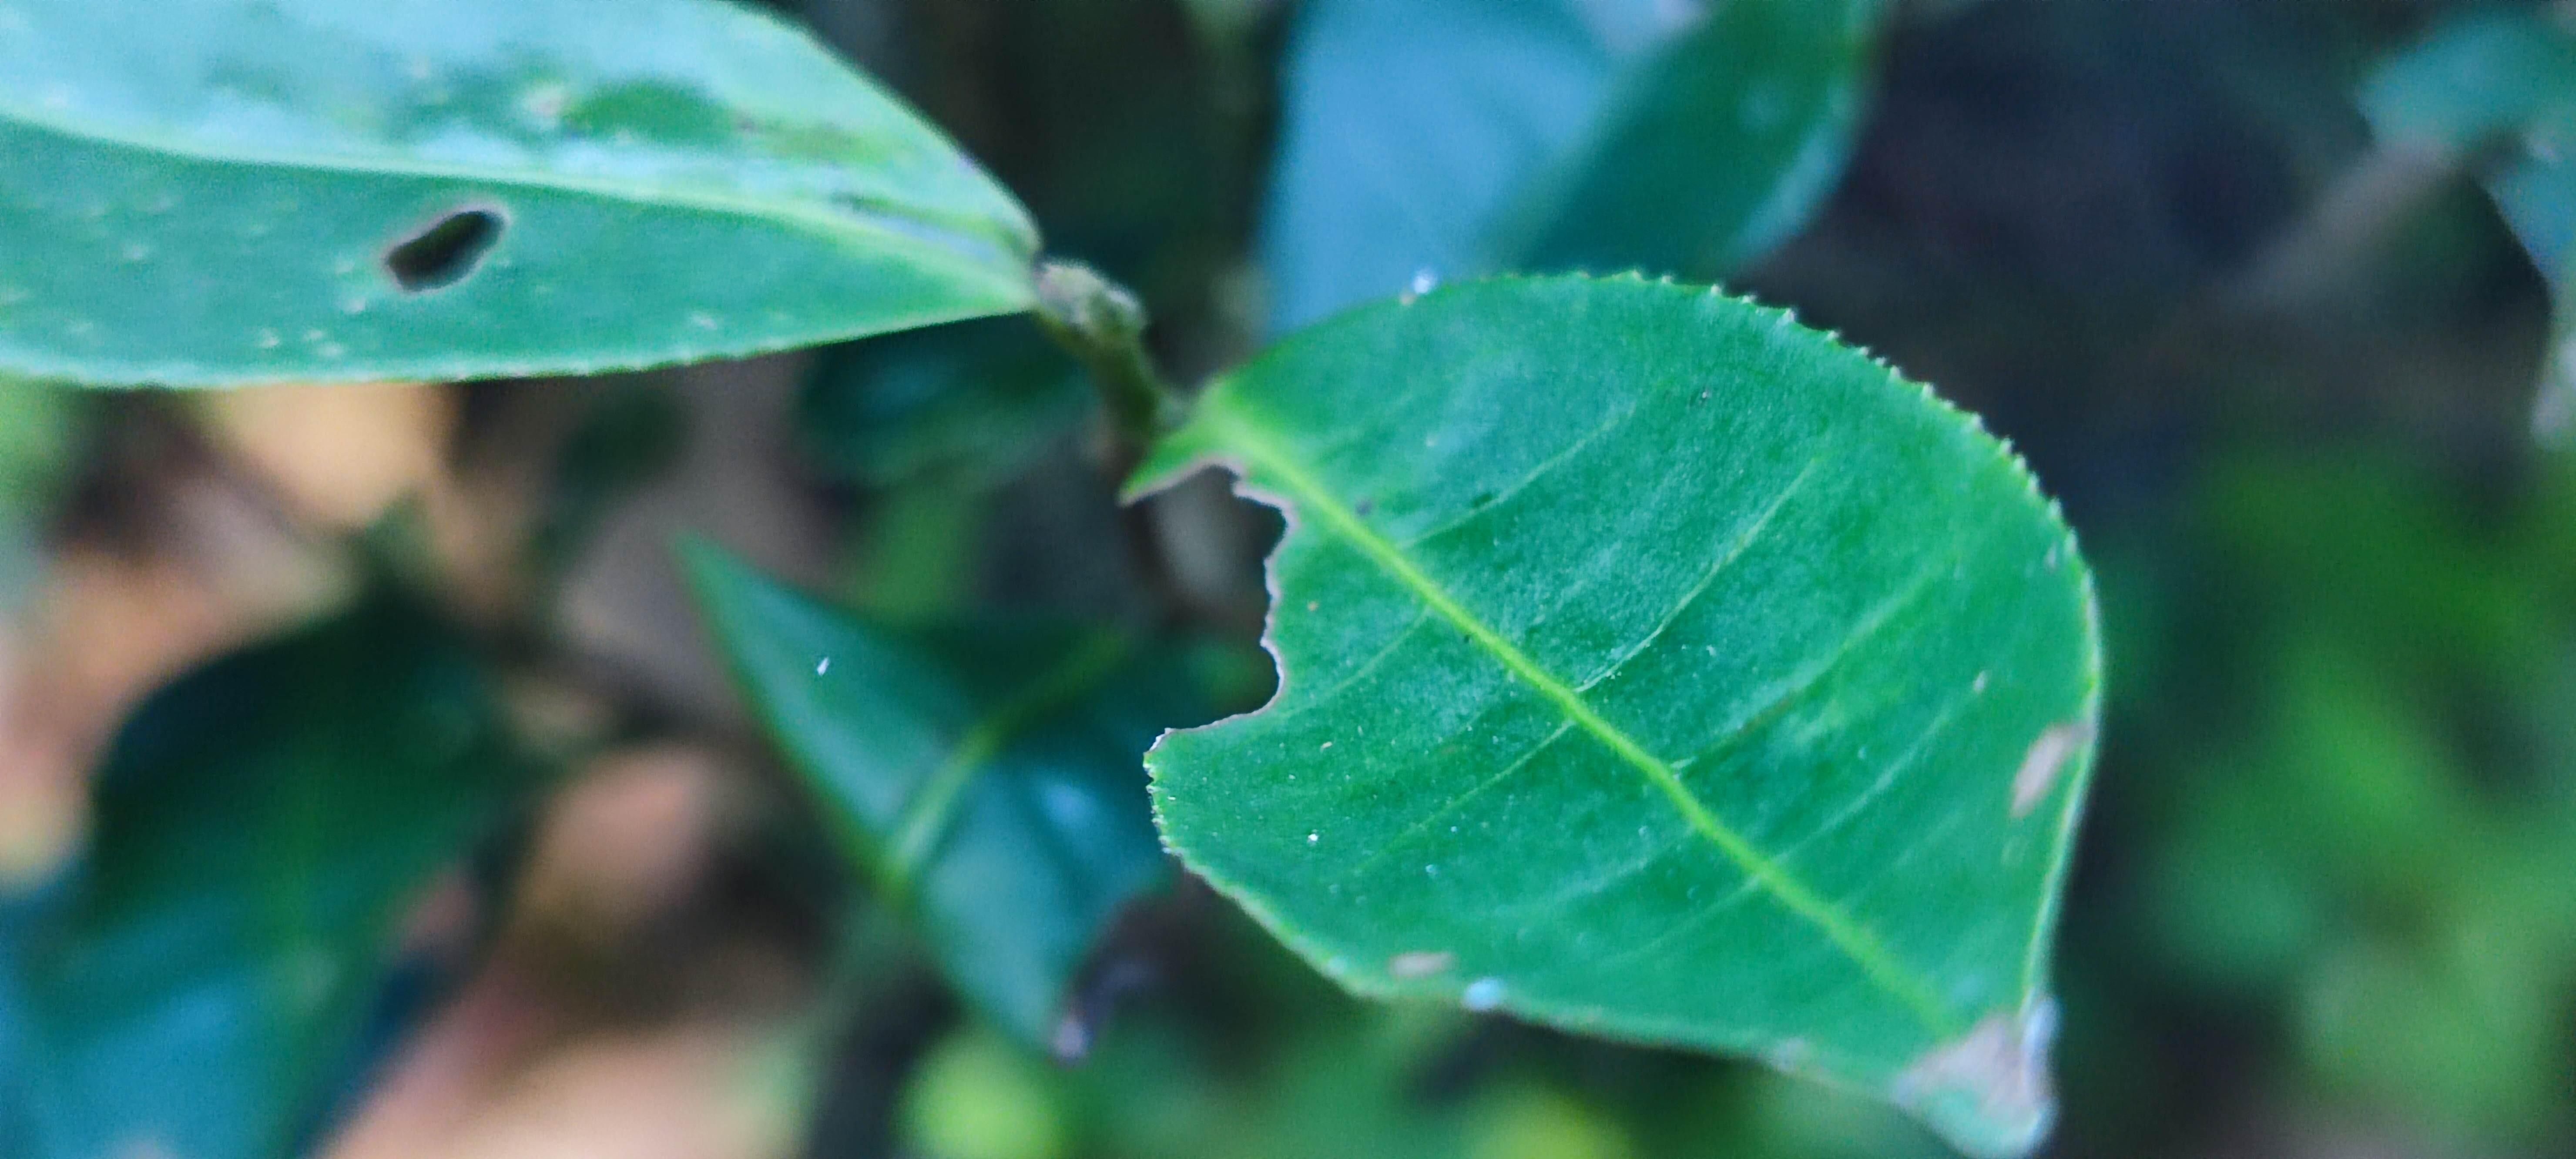chihuo_high: (1120, 263, 2104, 1151)
chihuo_low: (5, 3, 1045, 397)
